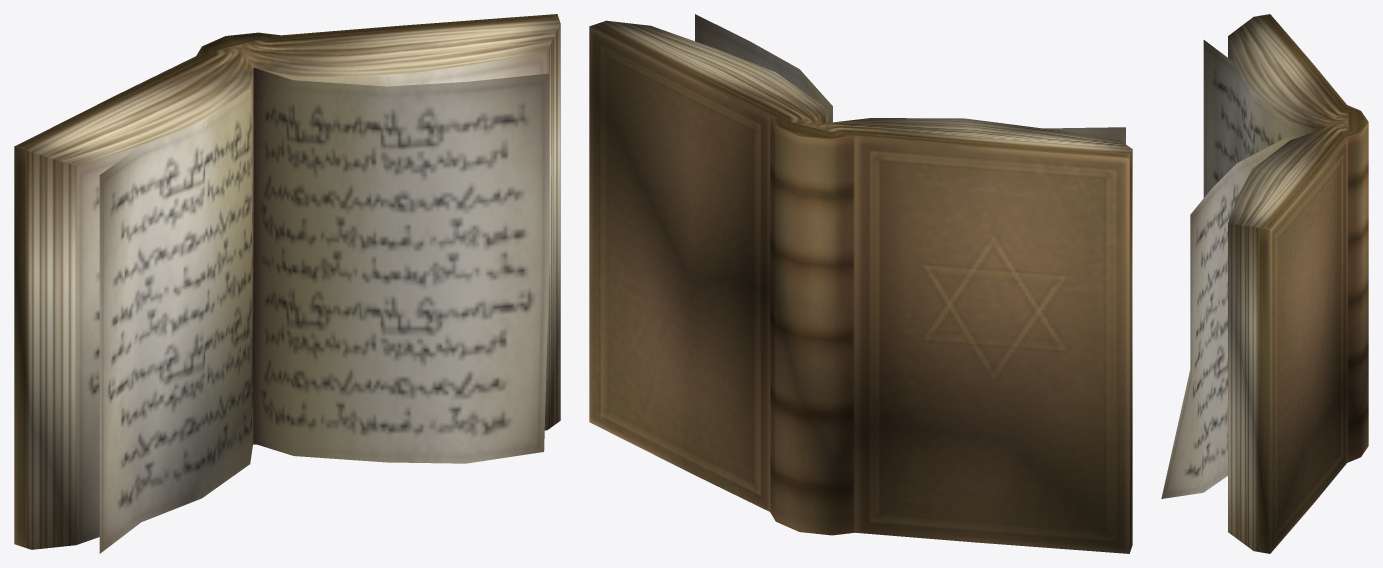
Rendered from Book_12.FBX.
The picture shows the model from 3 angles, left to right: view 1: azimuth 30°, elevation 25°; view 2: azimuth 150°, elevation 25°; view 3: azimuth 270°, elevation 25°; orthographic projection. The views are drawn at different scales.
Parts seen in each view (by area): view 1: Book; view 2: Book; view 3: Book.
Boxes of the visible parts, <box> form: Book: <box>14,14,560,553</box>; Book: <box>589,14,1132,553</box>; Book: <box>1161,14,1368,553</box>.
Bounding box in the file's own units: 29.91 × 20.94 × 12.14.
